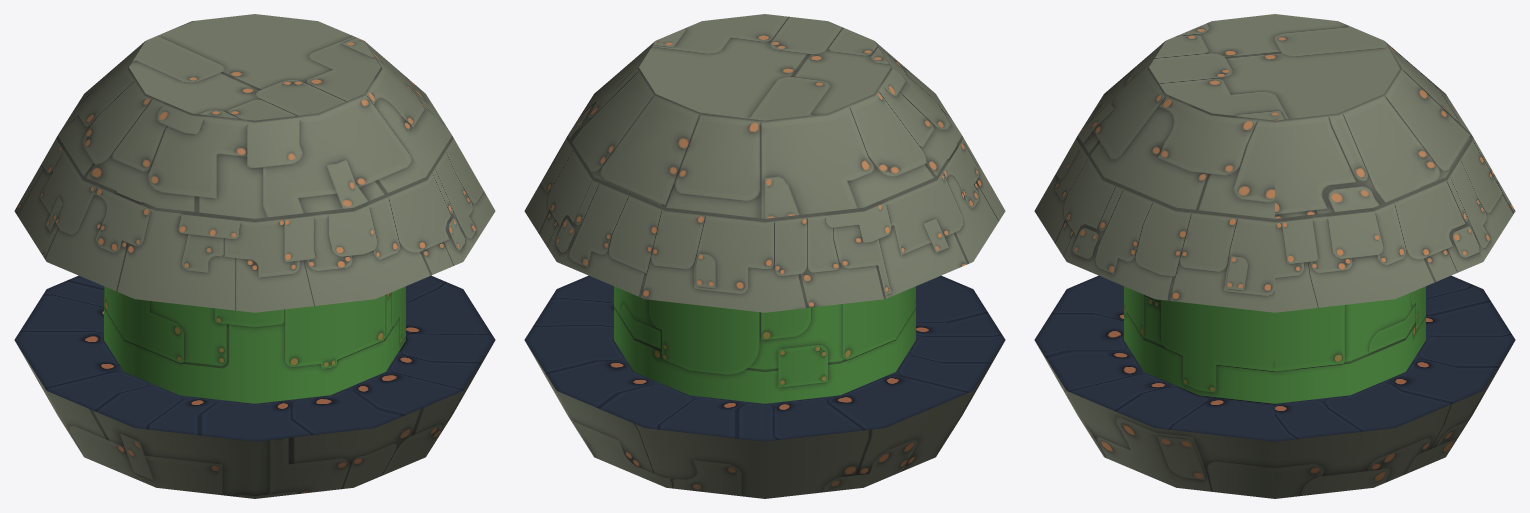
Rendered from End_Dress_PlatLaserEnd.fbx.
The picture shows the model from 3 angles, left to right: view 1: azimuth 30°, elevation 25°; view 2: azimuth 150°, elevation 25°; view 3: azimuth 270°, elevation 25°; orthographic projection.
Visible parts, largest first — view 1: Env_Dress_PlatLaserEnd; view 2: Env_Dress_PlatLaserEnd; view 3: Env_Dress_PlatLaserEnd.
Boxes of the visible parts, x1,y1,x2,y2 form: Env_Dress_PlatLaserEnd: (14, 14, 495, 498); Env_Dress_PlatLaserEnd: (524, 14, 1005, 498); Env_Dress_PlatLaserEnd: (1034, 14, 1515, 498).
Size of the model in its own units: 50.23 by 40.11 by 50.23.
